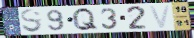2: (126, 5, 148, 30)
3: (100, 7, 119, 30)
9: (46, 8, 67, 32)
Q: (71, 7, 100, 32)
S: (19, 8, 44, 34)
V: (148, 4, 172, 30)
